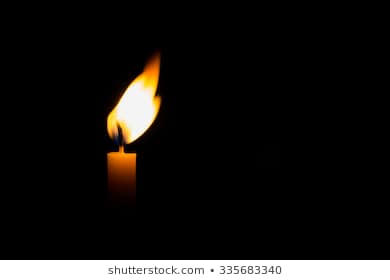Fire: (104, 48, 162, 147)
